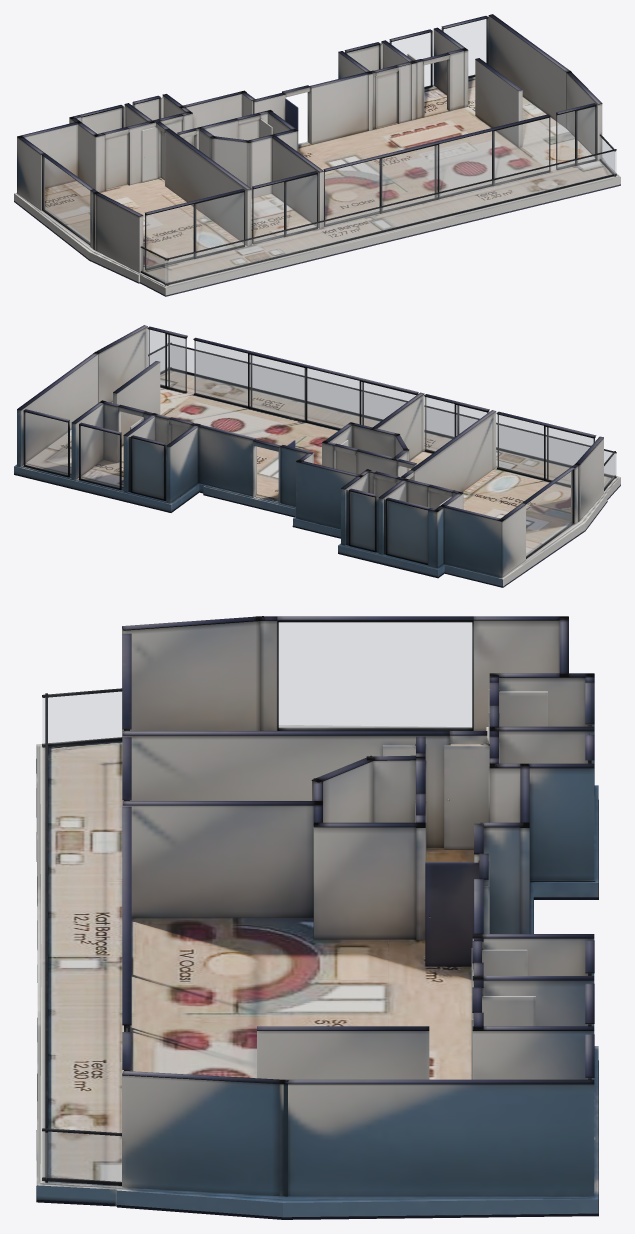
The picture shows the model from 3 angles, top to bottom: view 1: azimuth 30°, elevation 25°; view 2: azimuth 150°, elevation 25°; view 3: azimuth 270°, elevation 25°; orthographic projection. The views are drawn at different scales.
Visible parts, largest first — view 1: plan, glass0_m, railg1_m, glass1_m, glass2_m, glass9_m, glass3_m, glass8_m, glass7_m, railg2_m; view 2: plan, glass0_m, railg1_m, glass1_m, glass9_m, glass8_m, glass4_m, glass7_m, glass2_m, glass3_m, glass6_m, glass5_m; view 3: plan, glass9_m, railg0_m, railg2_m.
Boxes of the visible parts, x1,y1,x2,y2 form: plan: (14,14,620,296); glass0_m: (325,118,548,224); railg1_m: (165,151,616,283); glass1_m: (146,192,243,268); glass2_m: (253,175,316,242); glass9_m: (43,157,89,242); glass3_m: (557,107,594,167); glass8_m: (444,19,486,75); glass7_m: (392,32,430,86); railg2_m: (141,248,167,283); plan: (14,325,620,587); glass0_m: (194,341,415,428); railg1_m: (170,345,616,475); glass1_m: (497,415,593,484); glass9_m: (526,471,572,556); glass8_m: (25,412,67,475); glass4_m: (388,501,427,562); glass7_m: (81,426,119,487); glass2_m: (425,397,486,451); glass3_m: (148,330,185,390); glass6_m: (133,439,163,498); glass5_m: (351,492,374,549); plan: (36,616,598,1219); glass9_m: (279,622,471,728); railg0_m: (42,1131,121,1182); railg2_m: (42,692,122,743).
Bounding box in the file's own units: 20.62 × 2.62 × 10.25.
Materials: 2 (1 with a texture image).
